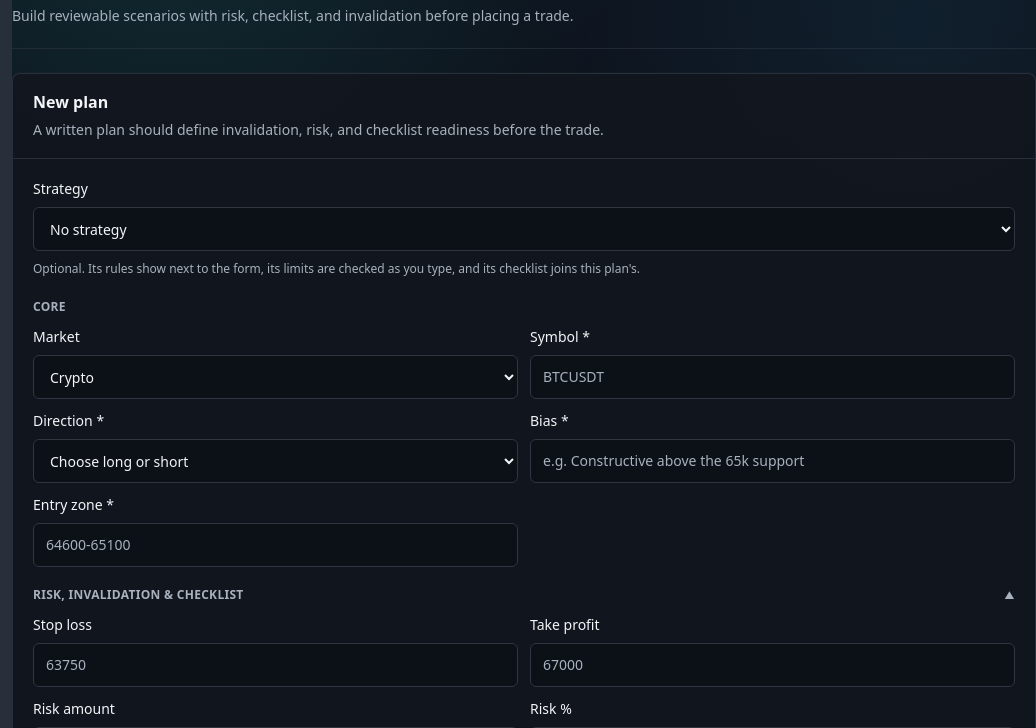
Scenario: the strategy's checklist becomes tick boxes in the plan's checklist › adds one tick box per item, next to the three built-in ones
Select "Range fade" in the 1st dropdown at (524, 229), box left=33, top=207, right=1015, bottom=251
(page scrolled)
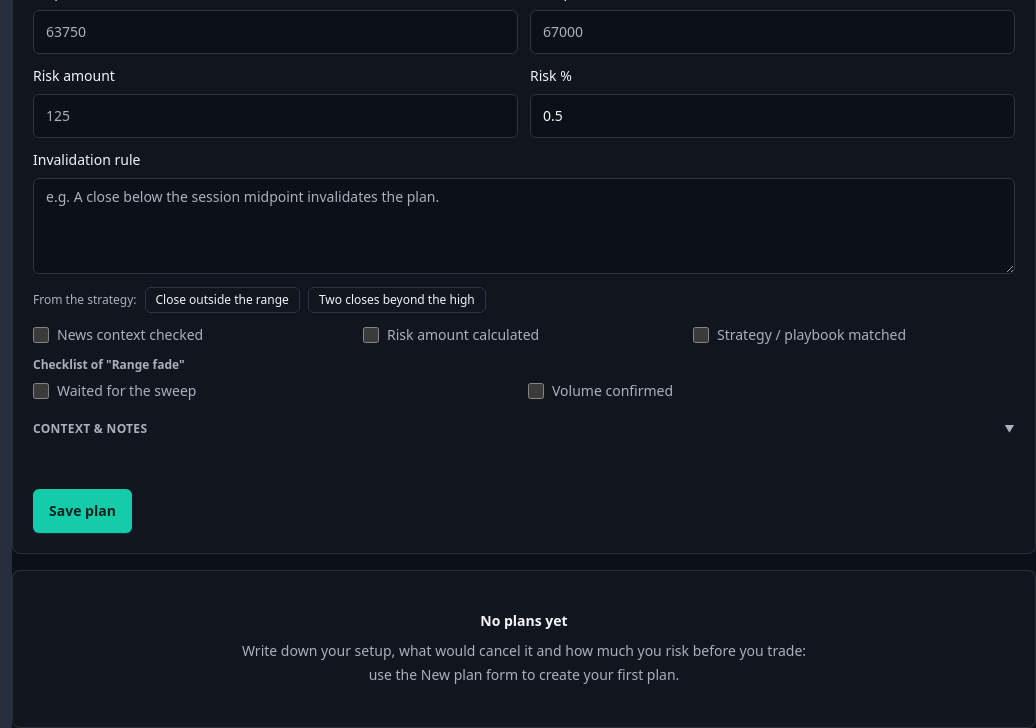
Expected: the number of checkboxes is 5, left=33, top=327, right=49, bottom=343; left=363, top=327, right=379, bottom=343; left=693, top=327, right=709, bottom=343; left=33, top=383, right=49, bottom=399; left=528, top=383, right=544, bottom=399
Expected: the checkbox labelled "Waited for the sweep" is not checked, left=33, top=383, right=49, bottom=399
Expected: the checkbox labelled "Volume confirmed" is not checked, left=528, top=383, right=544, bottom=399
